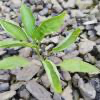Tomato leaf: (34, 10, 69, 41), (18, 4, 41, 43), (50, 27, 82, 53), (57, 58, 99, 74), (0, 56, 32, 69)
